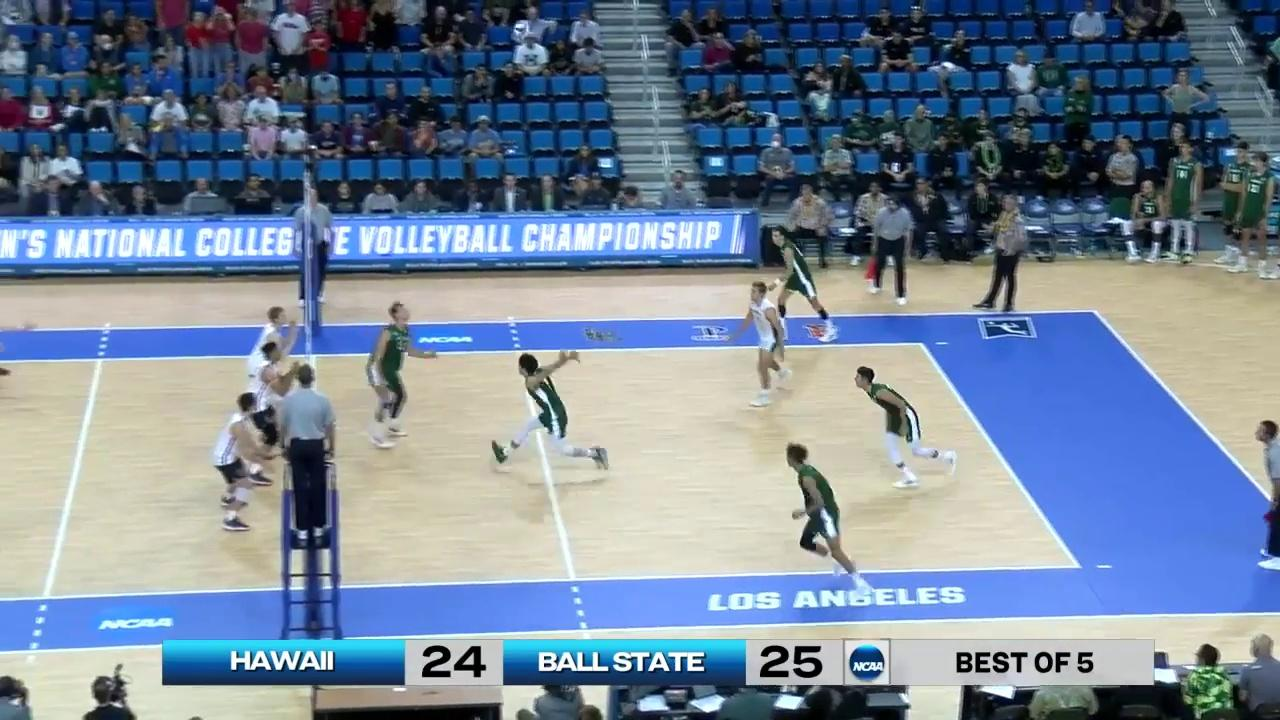player: (852, 364, 960, 492), (492, 353, 610, 470), (783, 443, 870, 590), (766, 230, 840, 342), (243, 304, 297, 443), (366, 303, 417, 448), (213, 393, 261, 534), (739, 276, 788, 406), (245, 340, 284, 484)
refree: (278, 366, 338, 541), (294, 189, 335, 310), (872, 193, 913, 300), (1260, 419, 1280, 566)
